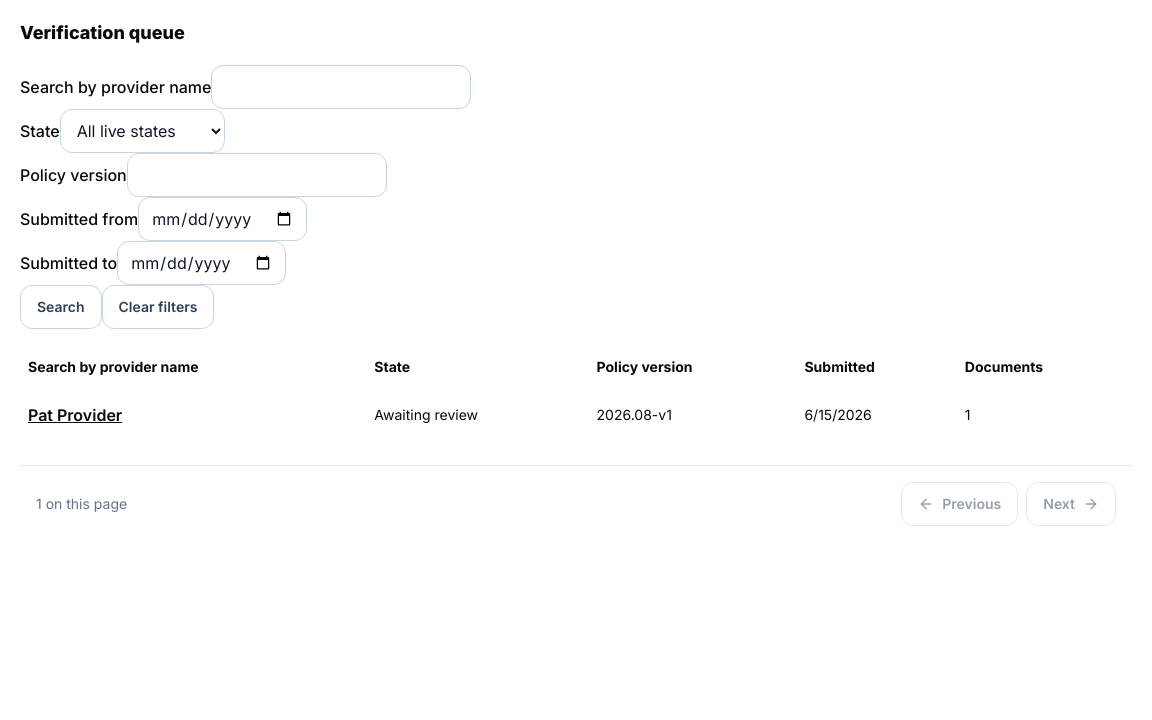
Test: deciding a case › posts the decision and re-reads the case rather than patching it locally
Click the button "Pat Provider" at (75,415), box [28, 393, 122, 437]
(page scrolled)
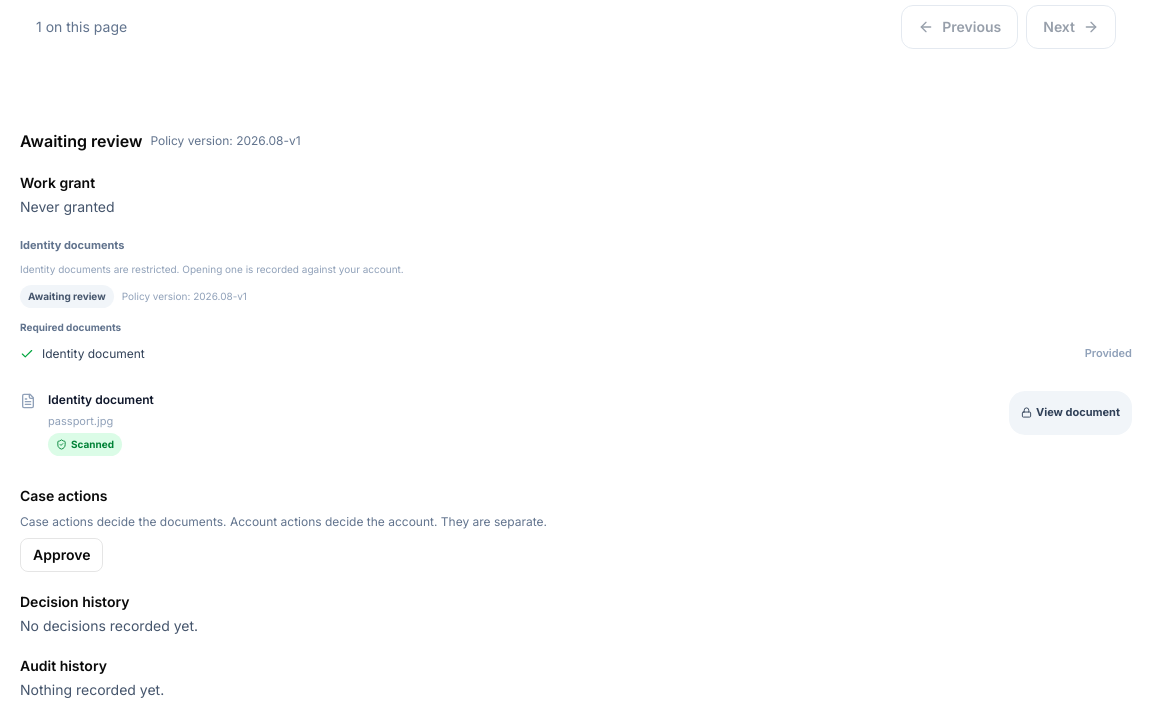
Now the text with test id "case-policy-version" is shown, box [150, 133, 301, 149]
Click the button with test id "case-action-approve" at (62,555), box [20, 538, 103, 572]
(page scrolled)
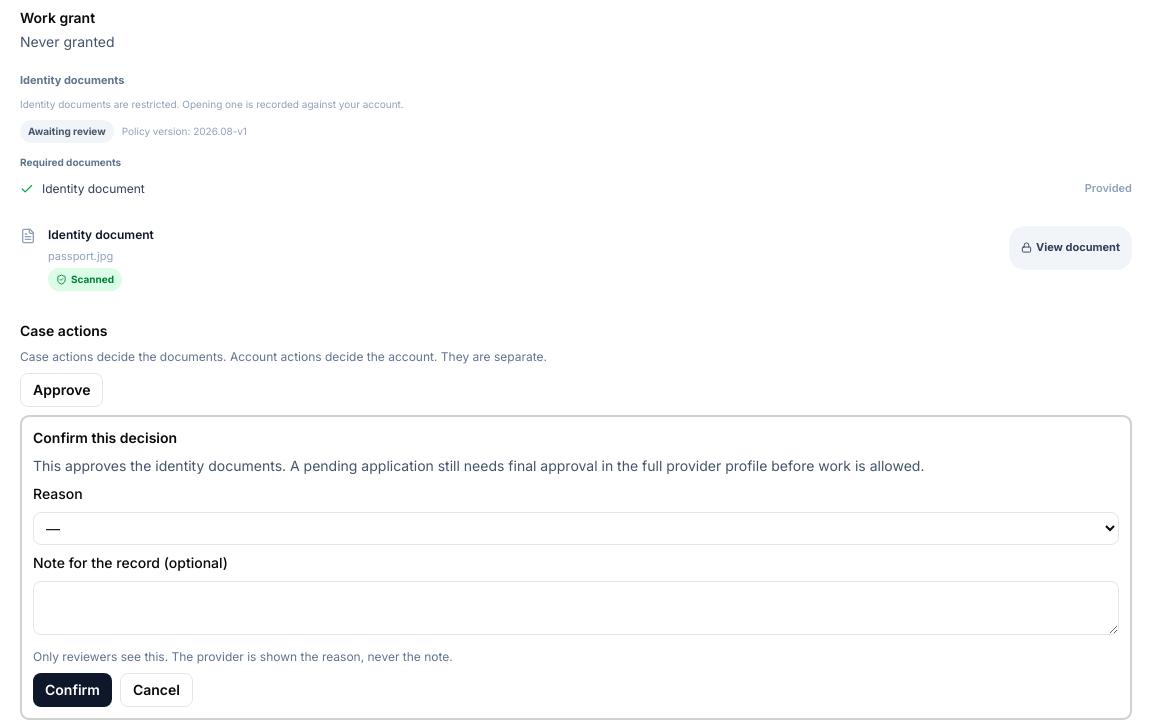
Select "Documents complete and legible" in the dropdown with test id "case-action-reason" at (576,529), box [33, 512, 1119, 545]
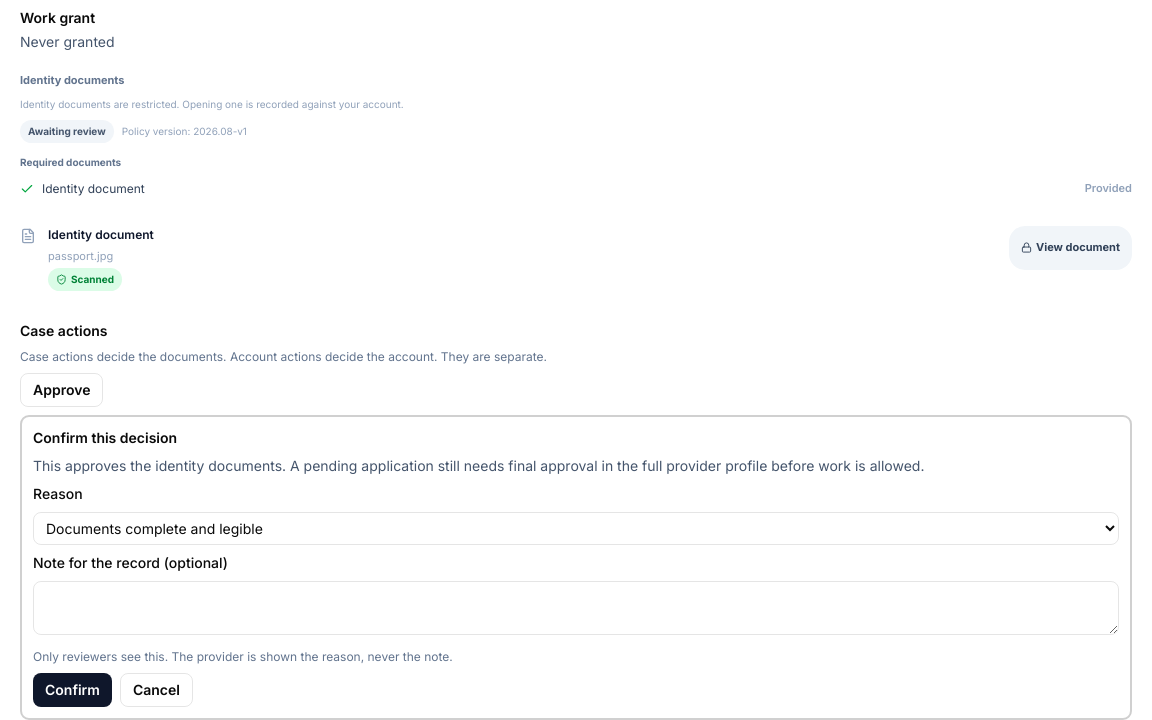
Click the button with test id "case-action-confirm" at (72,690), box [33, 673, 112, 707]
(page scrolled)
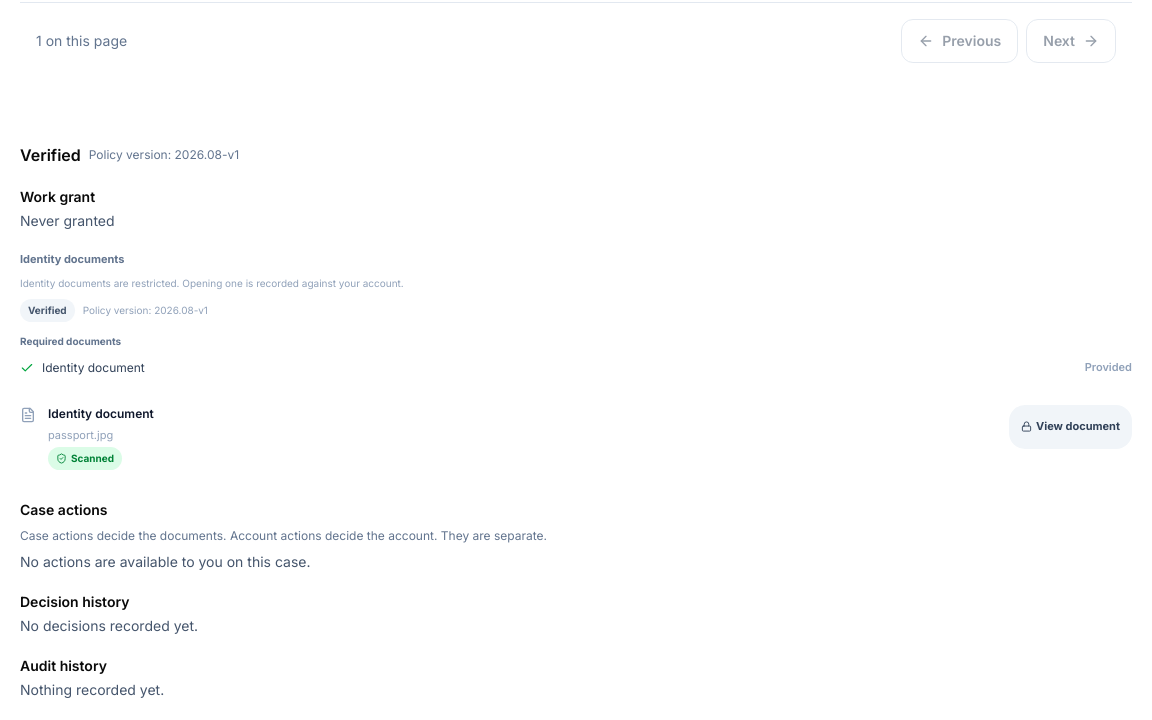
Now the text "No actions are available to you on this case." is shown, box [20, 553, 310, 570]
